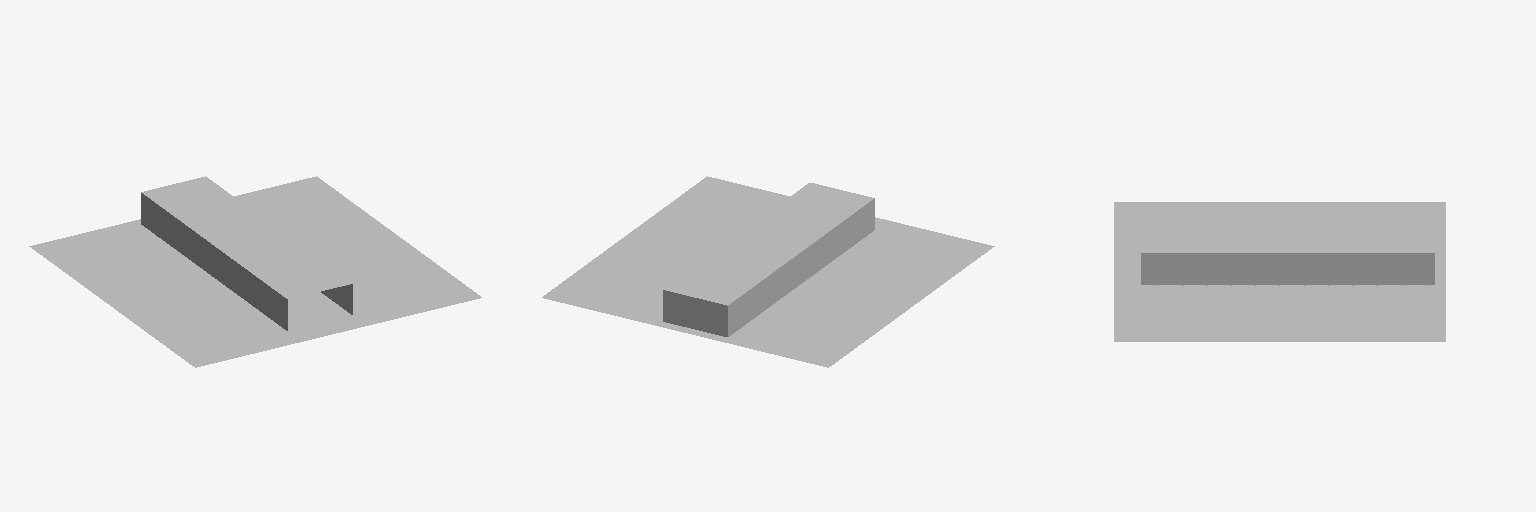
File: car_showcase.obj
3 views of the same model, side by side, from view 1: azimuth 30°, elevation 25°; view 2: azimuth 150°, elevation 25°; view 3: azimuth 270°, elevation 25° (orthographic).
Parts seen in each view (by area): view 1: floor, walls; view 2: floor, walls; view 3: floor, walls.
Part boxes in pixels (x1,y1,x2,y2): floor: (29,176,481,367); walls: (141,176,352,330); floor: (542,176,994,367); walls: (663,183,874,336); floor: (1114,202,1445,341); walls: (1141,221,1434,284).
Bounding box in the file's own units: 28.28 × 3.05 × 28.28.